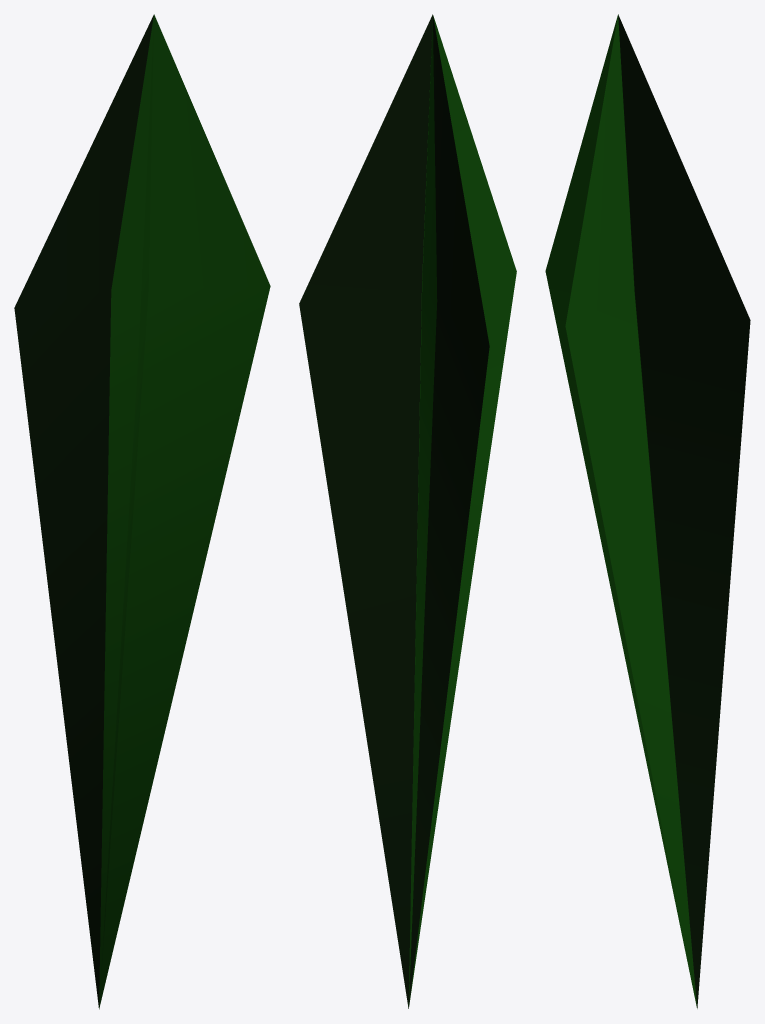
The model's file is grass b.FBX.
The picture shows the model from 3 angles, left to right: view 1: azimuth 30°, elevation 25°; view 2: azimuth 150°, elevation 25°; view 3: azimuth 270°, elevation 25°; orthographic projection. The views are drawn at different scales.
Parts seen in each view (by area): view 1: grass b; view 2: grass b; view 3: grass b.
Part boxes in pixels (left/top/right/bottom): grass b: left=14, top=14, right=270, bottom=1009; grass b: left=299, top=14, right=516, bottom=1008; grass b: left=545, top=14, right=750, bottom=1008.
Size of the model in its own units: 0.1965 by 0.1876 by 1.01.
